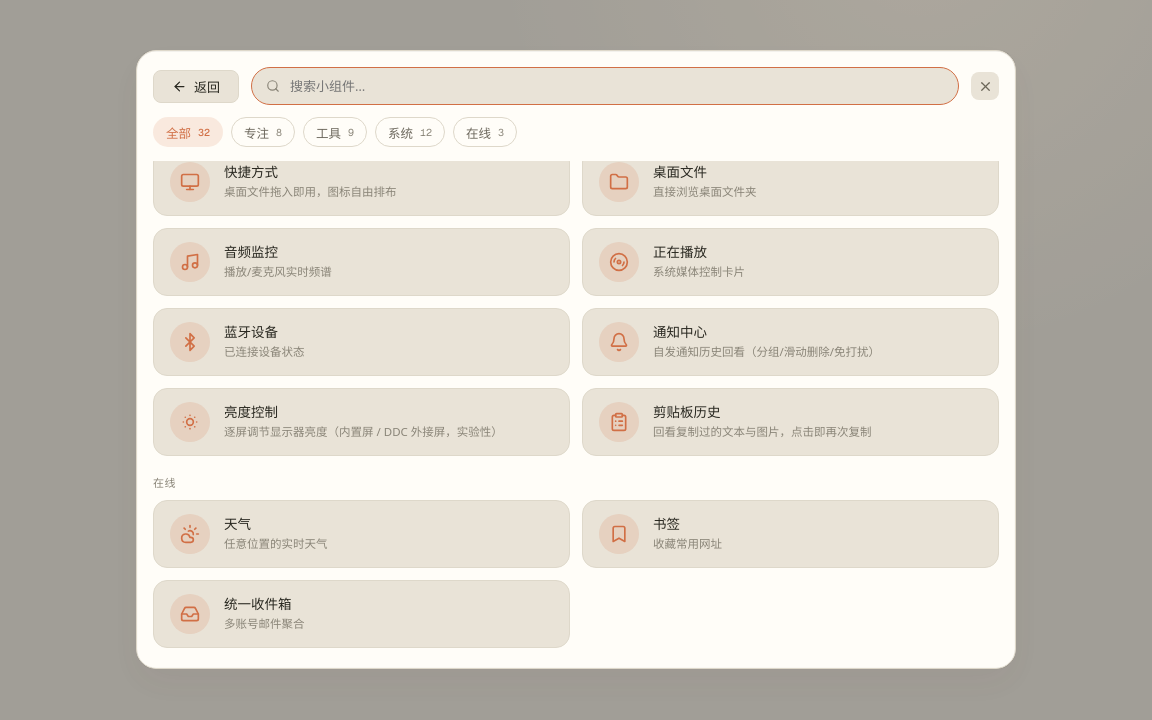
it: 图库入口「添加到灵动岛」（卡片悬停「岛」钮） › 单击卡片即入画布并打勾反馈；图库保持打开可连续添加
(page scrolled)
Click the button "天气 任意位置的实时天气". click: x=190, y=534
box: [153,500,570,568]
(page scrolled)
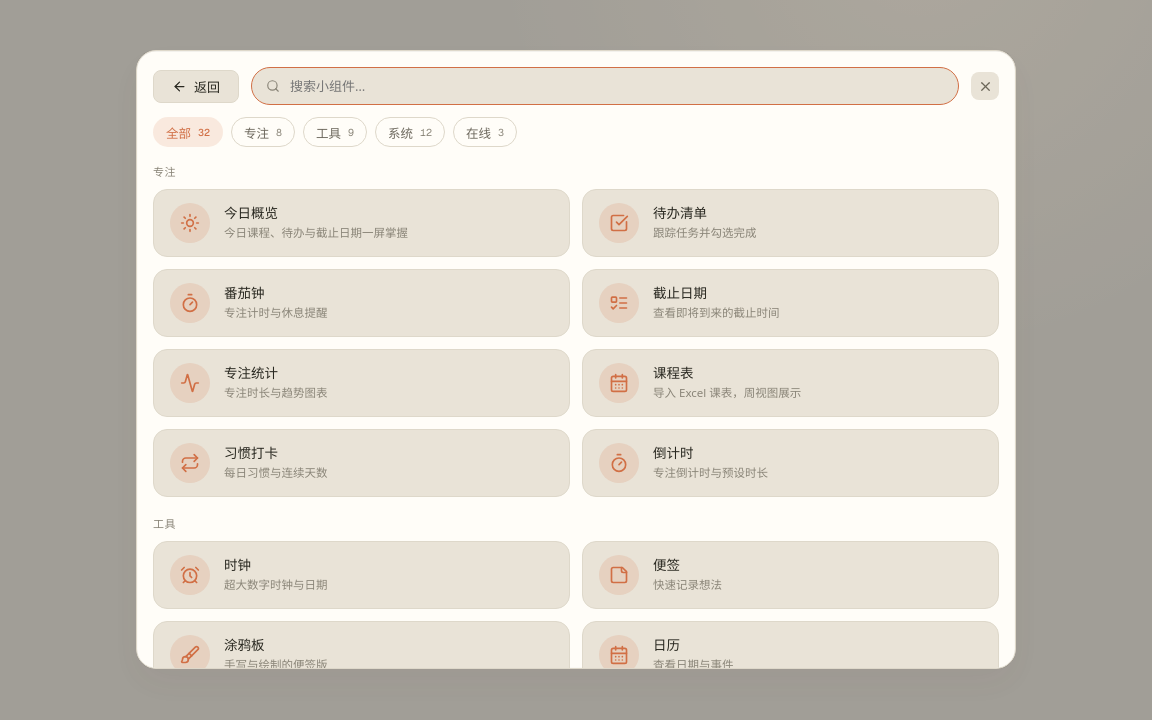
expect the text "专注" is shown: met, box [153,164,176,179]
